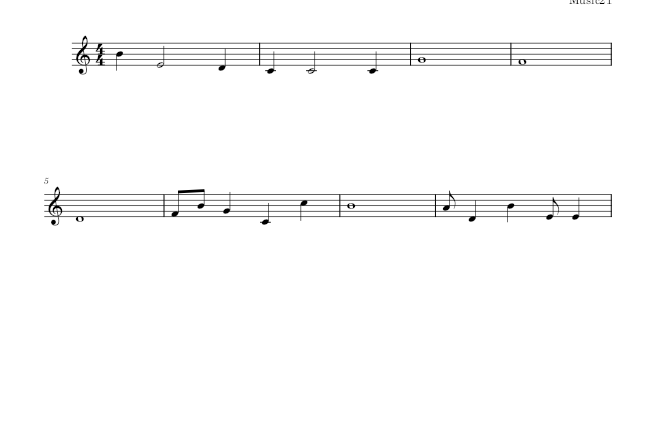Treble Clef: (71, 30, 92, 79), (45, 186, 66, 229)
